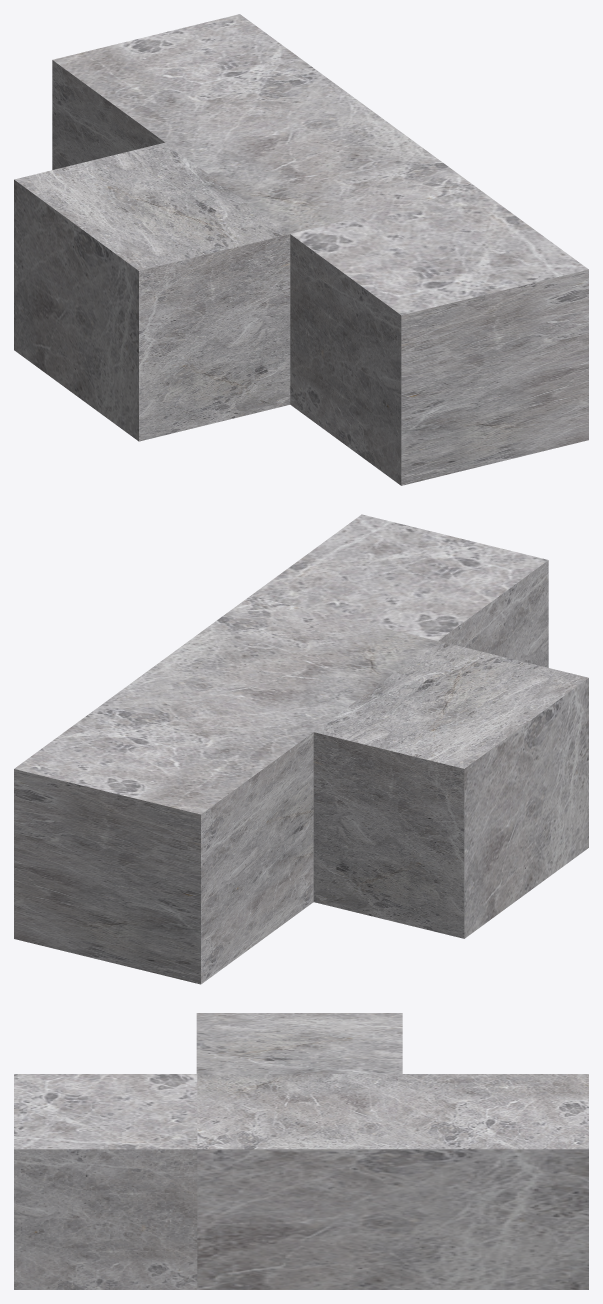
File: Plat5.fbx
3 views of the same model, one above another, from view 1: azimuth 30°, elevation 25°; view 2: azimuth 150°, elevation 25°; view 3: azimuth 270°, elevation 25° (orthographic). The views are drawn at different scales.
Parts seen in each view (by area): view 1: plat5; view 2: plat5; view 3: plat5.
Part boxes in pixels (x1,y1,x2,y2): plat5: (14,14,588,485); plat5: (14,514,588,984); plat5: (14,1013,588,1289).
Size of the model in its own units: 0.0232 by 0.0111 by 0.0413.
Materials: 1 (1 with a texture image).
